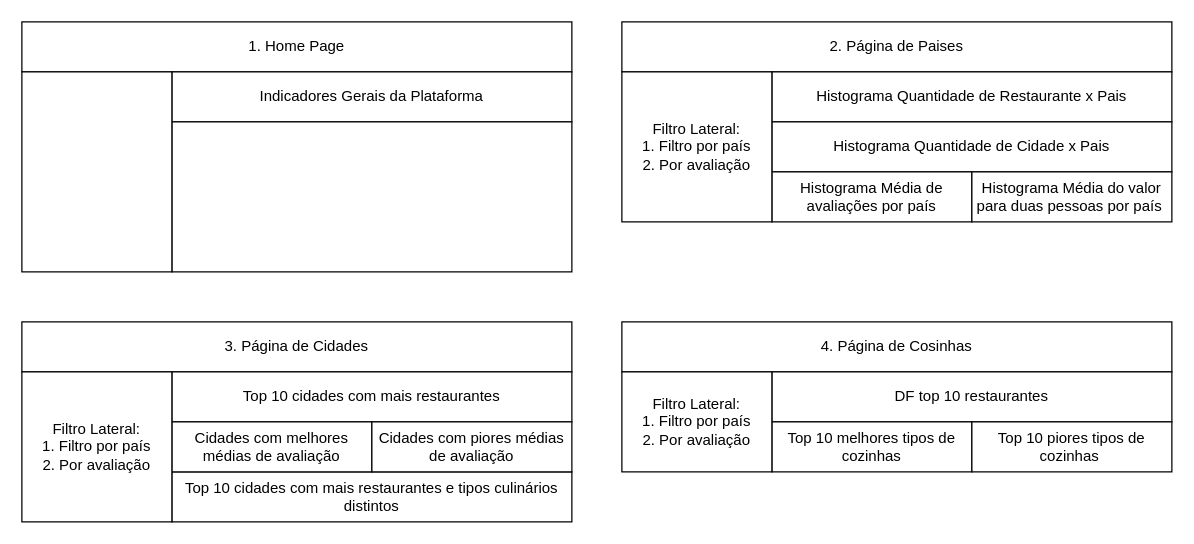
This 1194x544 diagram has some shape labels left out. Here are the shapes that lost their labels. From the top down, the box of each, then its label:
(21, 71, 172, 272): Filtro Lateral: 1. Fltro por país 2. Download do DF
(171, 121, 572, 272): Mapa com o endereço de todos os restaurantes
